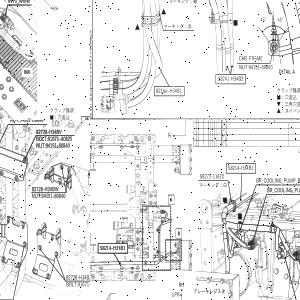PartNumber: (198, 172, 225, 181), (228, 165, 255, 172), (218, 75, 244, 82), (156, 87, 182, 94), (46, 142, 70, 149), (31, 186, 59, 192), (42, 193, 66, 200), (36, 129, 62, 135), (48, 136, 74, 142), (100, 245, 126, 251), (248, 65, 273, 70), (65, 274, 90, 279), (78, 281, 90, 287), (19, 120, 44, 122)
